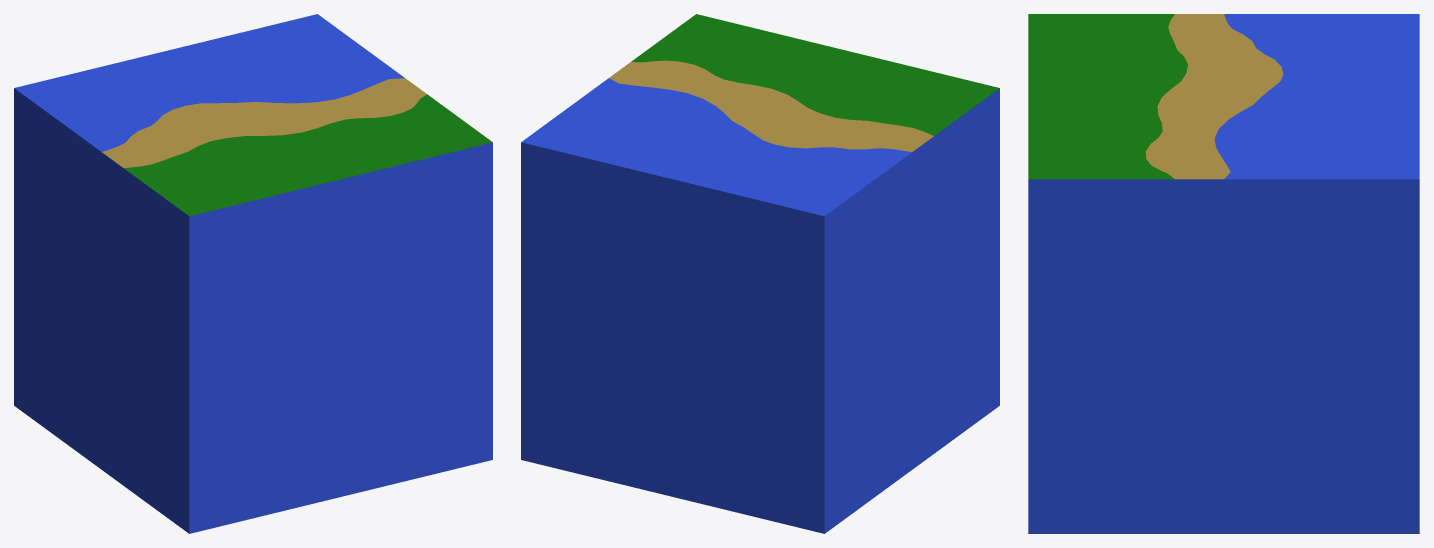
Rendered from CoastSide4.fbx.
The picture shows the model from 3 angles, left to right: view 1: azimuth 30°, elevation 25°; view 2: azimuth 150°, elevation 25°; view 3: azimuth 270°, elevation 25°; orthographic projection. The views are drawn at different scales.
Visible parts, largest first — view 1: Cube.002; view 2: Cube.002; view 3: Cube.002.
Boxes of the visible parts, x1,y1,x2,y2 form: Cube.002: [14, 14, 492, 533]; Cube.002: [521, 14, 999, 533]; Cube.002: [1028, 14, 1419, 533].
Size of the model in its own units: 100 by 100 by 100.
